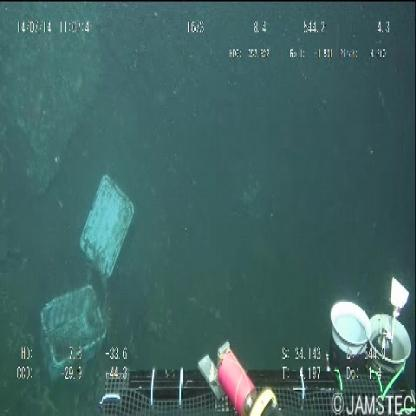Rov: (89, 277, 416, 416)
Rác: (29, 165, 136, 387)
